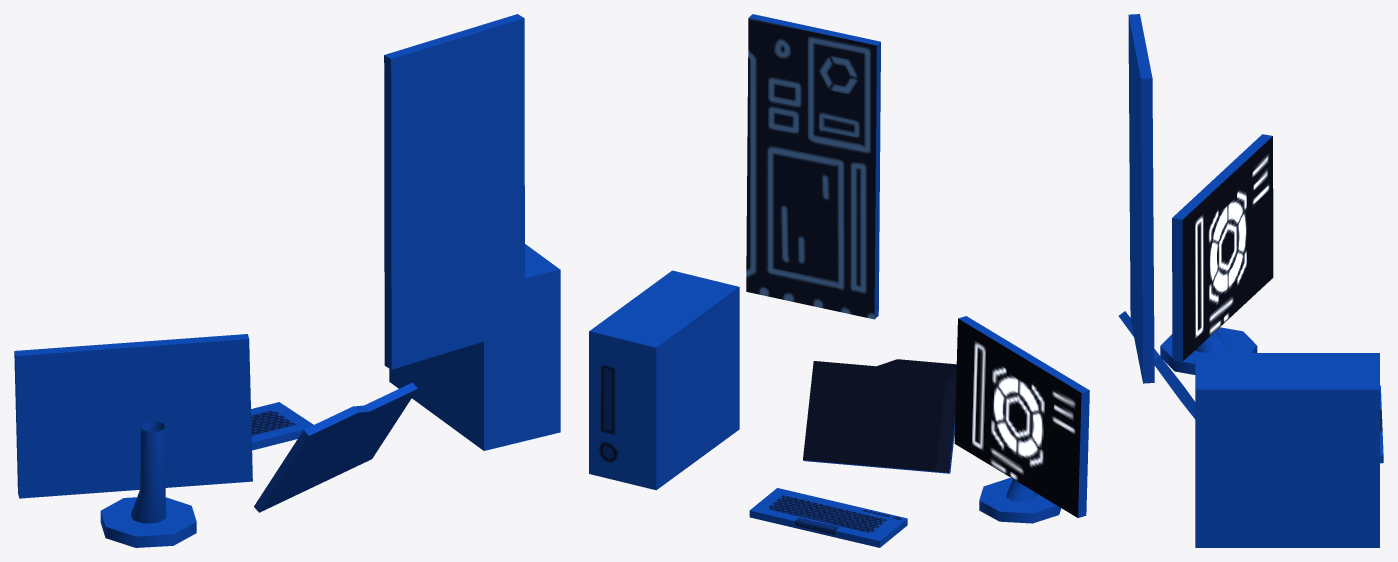
The model's file is new laptop.fbx.
The picture shows the model from 3 angles, left to right: view 1: azimuth 30°, elevation 25°; view 2: azimuth 150°, elevation 25°; view 3: azimuth 270°, elevation 25°; orthographic projection. The views are drawn at different scales.
Parts seen in each view (by area): view 1: laptop; view 2: laptop; view 3: laptop.
Boxes of the visible parts, x1,y1,x2,y2 form: laptop: (14,14,560,547); laptop: (589,14,1089,547); laptop: (1118,14,1383,547).
Size of the model in its own units: 278 by 236 by 128.
